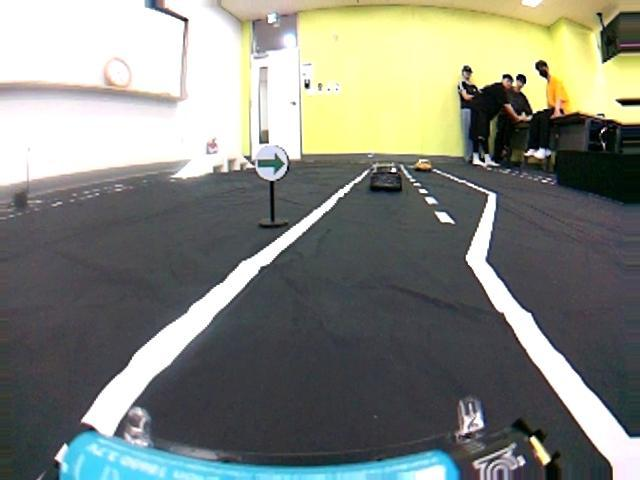car: (365, 163, 409, 191)
sign_right: (246, 143, 292, 179)
straight: (55, 242, 640, 479)
